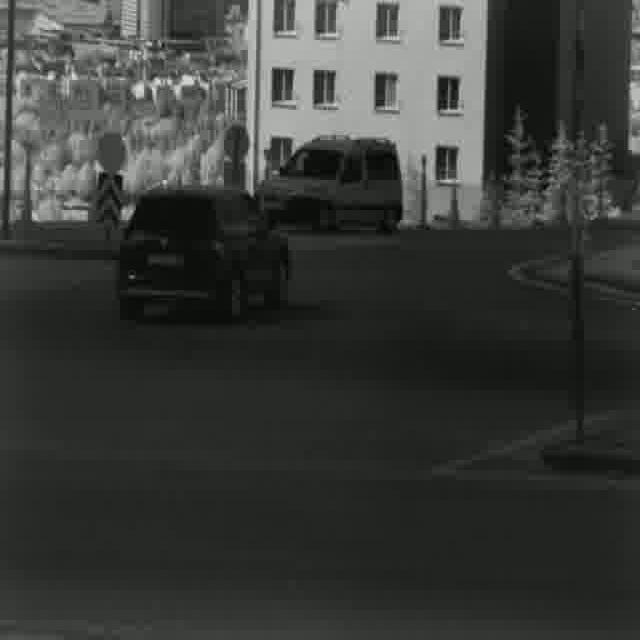Car: (114, 187, 292, 311), (252, 136, 403, 229)
